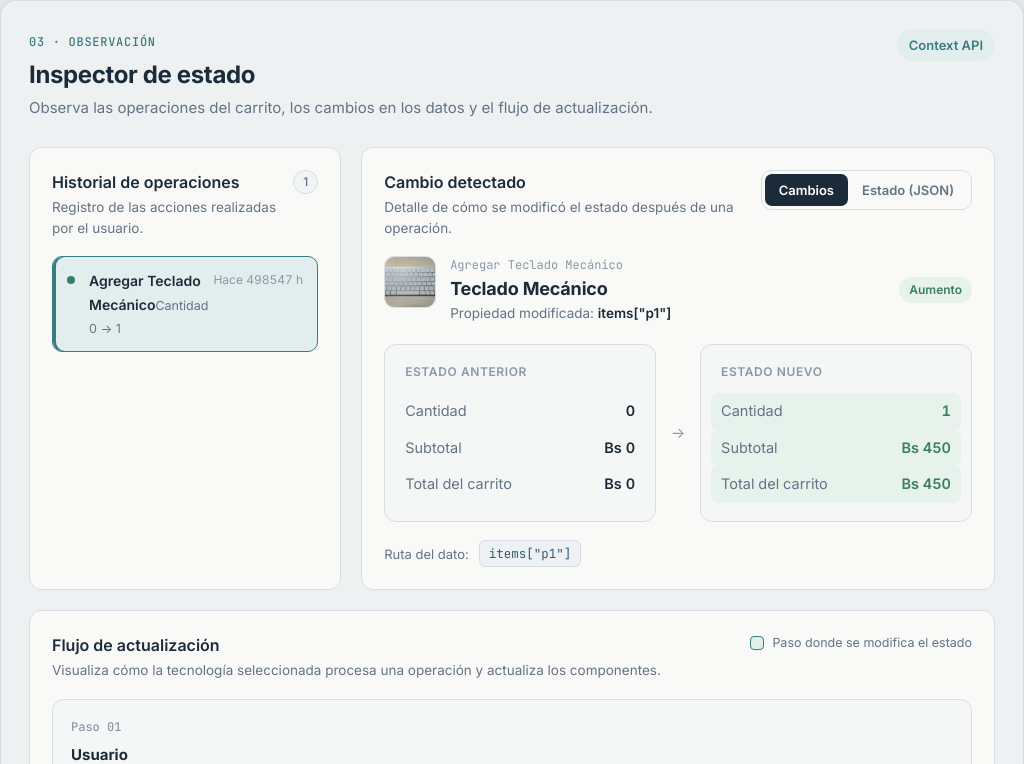
Test: StateInspector › conserva JSON abierto y selecciona automáticamente la operación nueva
The width and height of the screenshot is (1024, 764).
Later steps or results of the test are not shown.
Click the button "Estado (JSON)".
click(908, 190)  # box x1=848 y1=174 x2=968 y2=206
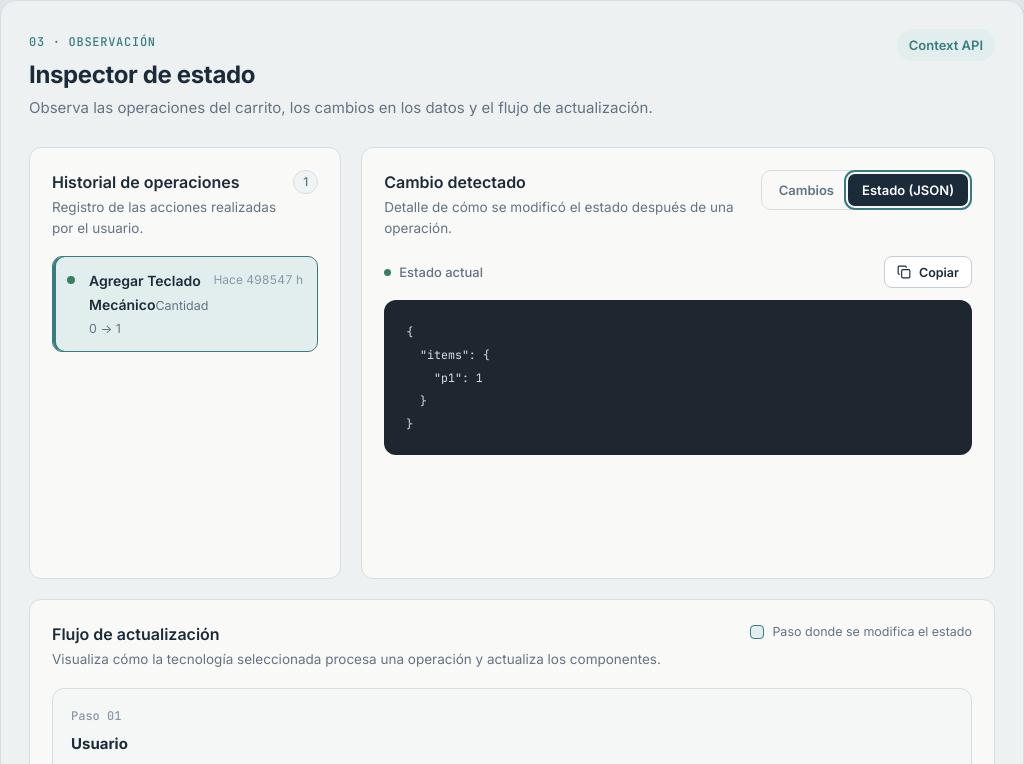
Check: the text "Estado actual" is shown, box x1=384 y1=262 x2=483 y2=282
